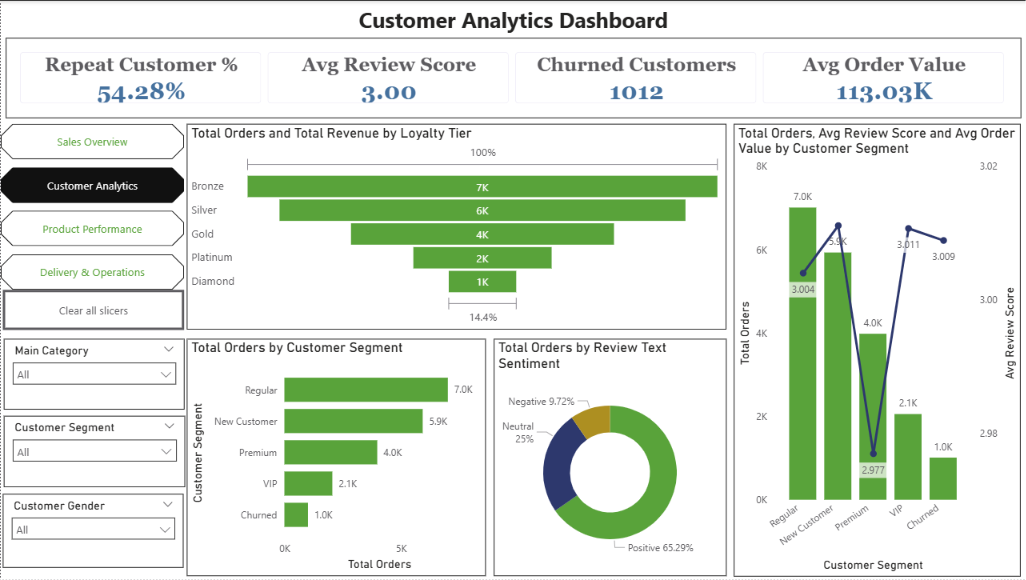

Layout of this report page (visuals, bound fields, positions):
{"tool":"powerbi","page":{"name":"Customer Analytics","canvas":[1280,720],"ordinal":1},"visuals":[{"type":"cardVisual","fields":{"Data":["Table.Repeat Customer %","Table.Avg Review Score","Table.Churned Customers","Table.Avg Order Value"]},"box":[5.7,45.7,1262.9,100],"z":0},{"type":"textbox","box":[5.7,0,1262.9,45.7],"z":1000},{"type":"funnel","fields":{"Category":["Ecommerce Orders.Loyalty Tier"],"Y":["Table.Total Orders"]},"box":[231.4,152.9,671.4,255.7],"z":2000},{"type":"lineClusteredColumnComboChart","fields":{"Y":["Table.Total Orders"],"Category":["Ecommerce Orders.Customer Segment"],"Y2":["Table.Avg Review Score"]},"box":[911.4,152.9,357.1,562.9],"z":3000},{"type":"barChart","fields":{"Category":["Ecommerce Orders.Payment Method","Ecommerce Orders.Customer Segment"],"Y":["Table.Total Orders"]},"box":[231.4,420.5,371.9,294.8],"z":4000},{"type":"donutChart","fields":{"Category":["Ecommerce Orders.Repeat Customer","Ecommerce Orders.Review Text Sentiment"],"Y":["Table.Total Orders"]},"box":[613.3,420.5,289.8,294.8],"z":5000},{"type":"slicer","fields":{"Values":["Ecommerce Orders.Main Category"]},"box":[3.7,420.5,225.2,88.3],"z":6000},{"type":"slicer","fields":{"Values":["Ecommerce Orders.Customer Segment"]},"box":[3.4,516,225.7,88.6],"z":7000},{"type":"pageNavigator","box":[0,152.9,228.6,207.1],"z":8000},{"type":"actionButton","box":[2.9,360,225.7,50],"z":9000},{"type":"slicer","fields":{"Values":["Ecommerce Orders.Customer Gender"]},"box":[2.5,613.3,225.2,92.1],"z":10000}]}

Visuals, with their boxes in screenshot pixels (x1, y1, x2, y2), scaled from the page's 1280x720 canvas onto the 1026x580 screenshot:
cardVisual - Table.Repeat Customer % x Table.Avg Review Score: l=5, t=37, r=1017, b=117
textbox: l=5, t=0, r=1017, b=37
funnel - Ecommerce Orders.Loyalty Tier x Table.Total Orders: l=185, t=123, r=724, b=329
lineClusteredColumnComboChart - Table.Total Orders x Ecommerce Orders.Customer Segment: l=731, t=123, r=1017, b=577
barChart - Ecommerce Orders.Payment Method x Ecommerce Orders.Customer Segment: l=185, t=339, r=484, b=576
donutChart - Ecommerce Orders.Repeat Customer x Ecommerce Orders.Review Text Sentiment: l=492, t=339, r=724, b=576
slicer - Ecommerce Orders.Main Category: l=3, t=339, r=183, b=410
slicer - Ecommerce Orders.Customer Segment: l=3, t=416, r=184, b=487
pageNavigator: l=0, t=123, r=183, b=290
actionButton: l=2, t=290, r=183, b=330
slicer - Ecommerce Orders.Customer Gender: l=2, t=494, r=183, b=568
